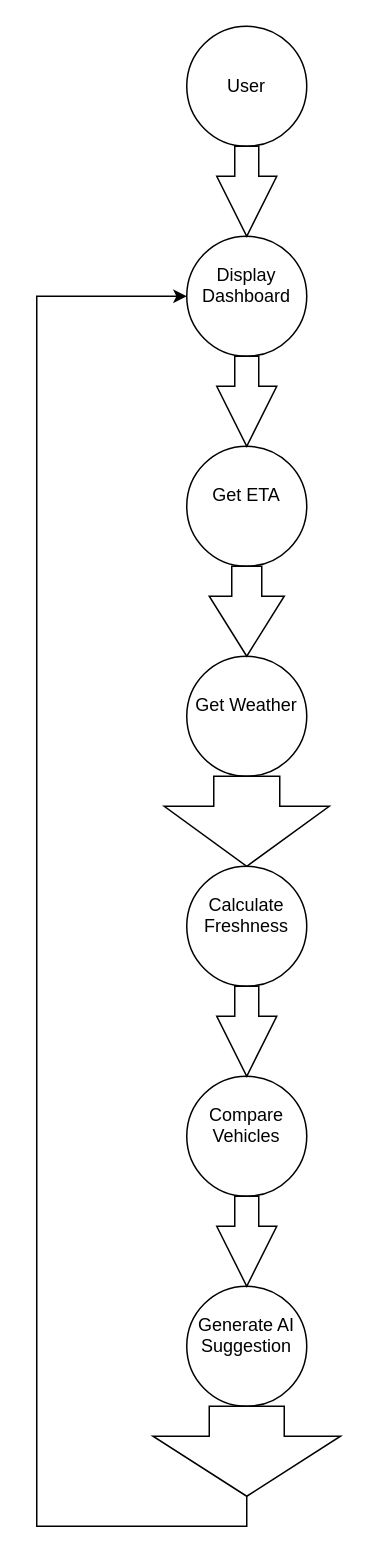
Some shapes in this 368 by 1565 pixel diagram are drawn without their labels. Here are the shapes that lost their labels. From the top down, the box of each, then its label:
(208, 565, 284, 656): ORS
(163, 775, 329, 866): Weather API
(152, 1405, 340, 1496): Groq API
